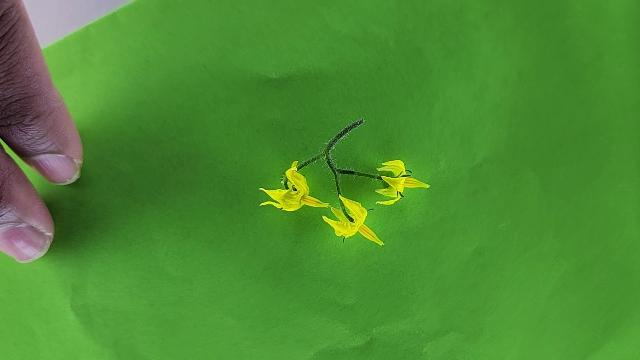Anthesis: (257, 160, 329, 212), (321, 193, 384, 246), (371, 159, 431, 205)
